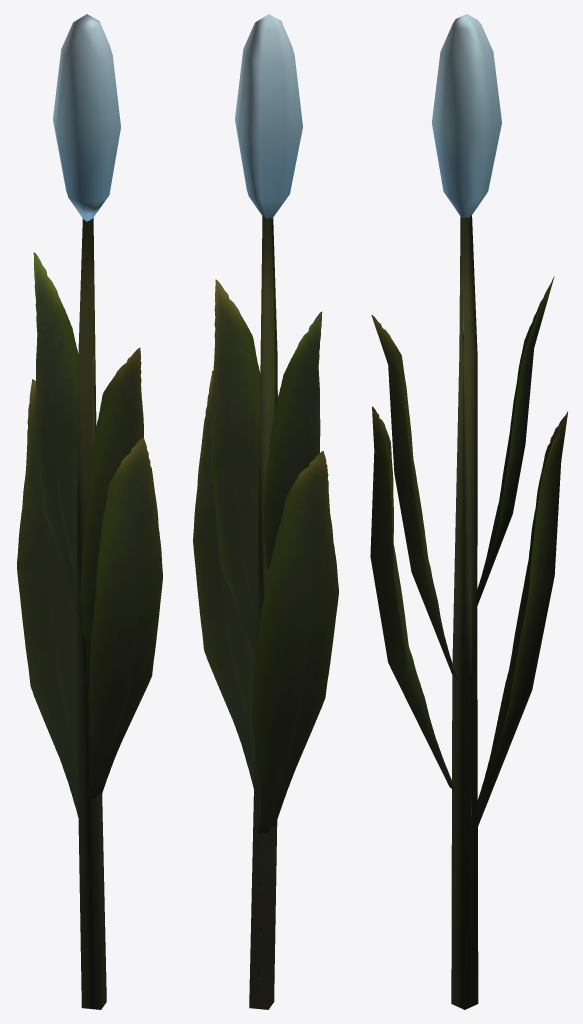
The model's file is Flower_C04.fbx.
3 views of the same model, side by side, from view 1: azimuth 30°, elevation 25°; view 2: azimuth 210°, elevation 25°; view 3: azimuth 270°, elevation 25° (orthographic).
Parts seen in each view (by area): view 1: Flower_C04; view 2: Flower_C04; view 3: Flower_C04.
Part boxes in pixels (x1,y1,x2,y2): Flower_C04: (17,14,162,1009); Flower_C04: (193,14,338,1009); Flower_C04: (370,14,567,1009).
Size of the model in its own units: 4.11 by 39.22 by 7.15.
